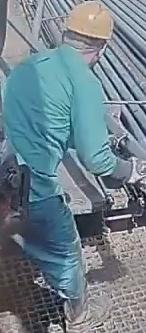gloves: (118, 156, 146, 186)
helmet: (63, 0, 114, 45)
vest: (0, 47, 112, 195)
